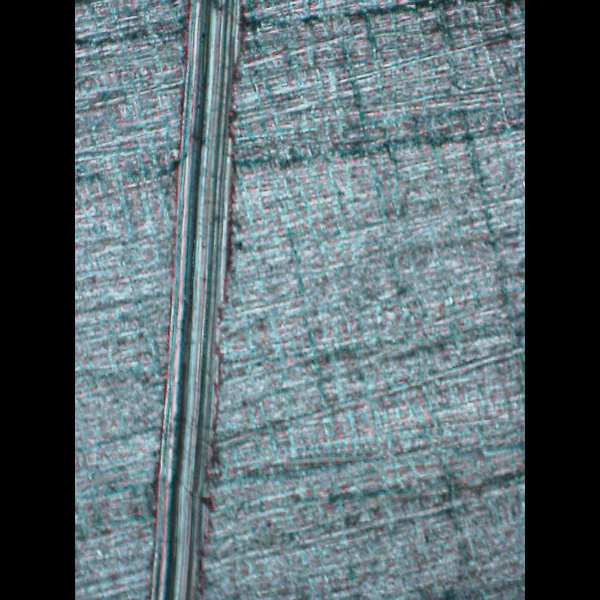d: (130, 0, 250, 599)
